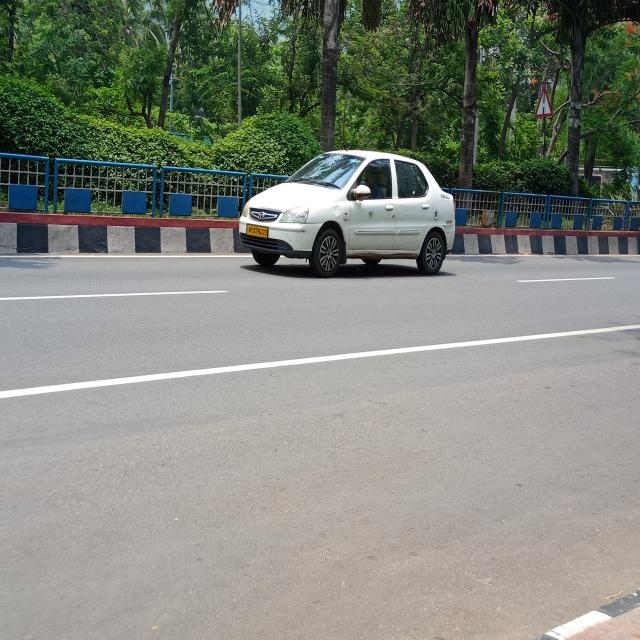car: (233, 141, 464, 291)
